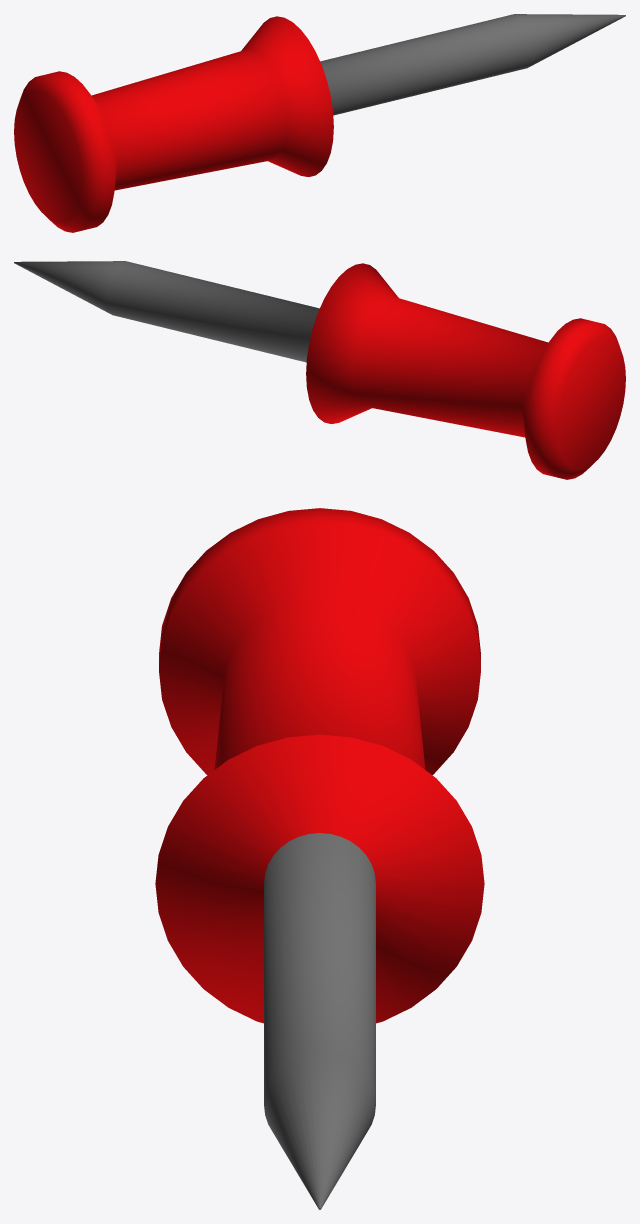
The model's file is Thumbtack.fbx.
The picture shows the model from 3 angles, top to bottom: view 1: azimuth 30°, elevation 25°; view 2: azimuth 150°, elevation 25°; view 3: azimuth 270°, elevation 25°; orthographic projection. The views are drawn at different scales.
Parts seen in each view (by area): view 1: Cylinder.001; view 2: Cylinder.001; view 3: Cylinder.001.
Part boxes in pixels (left/top/right/bottom): Cylinder.001: left=14, top=14, right=625, bottom=232; Cylinder.001: left=14, top=261, right=625, bottom=479; Cylinder.001: left=155, top=508, right=484, bottom=1209.
Size of the model in its own units: 7.12 by 1.76 by 1.76.
